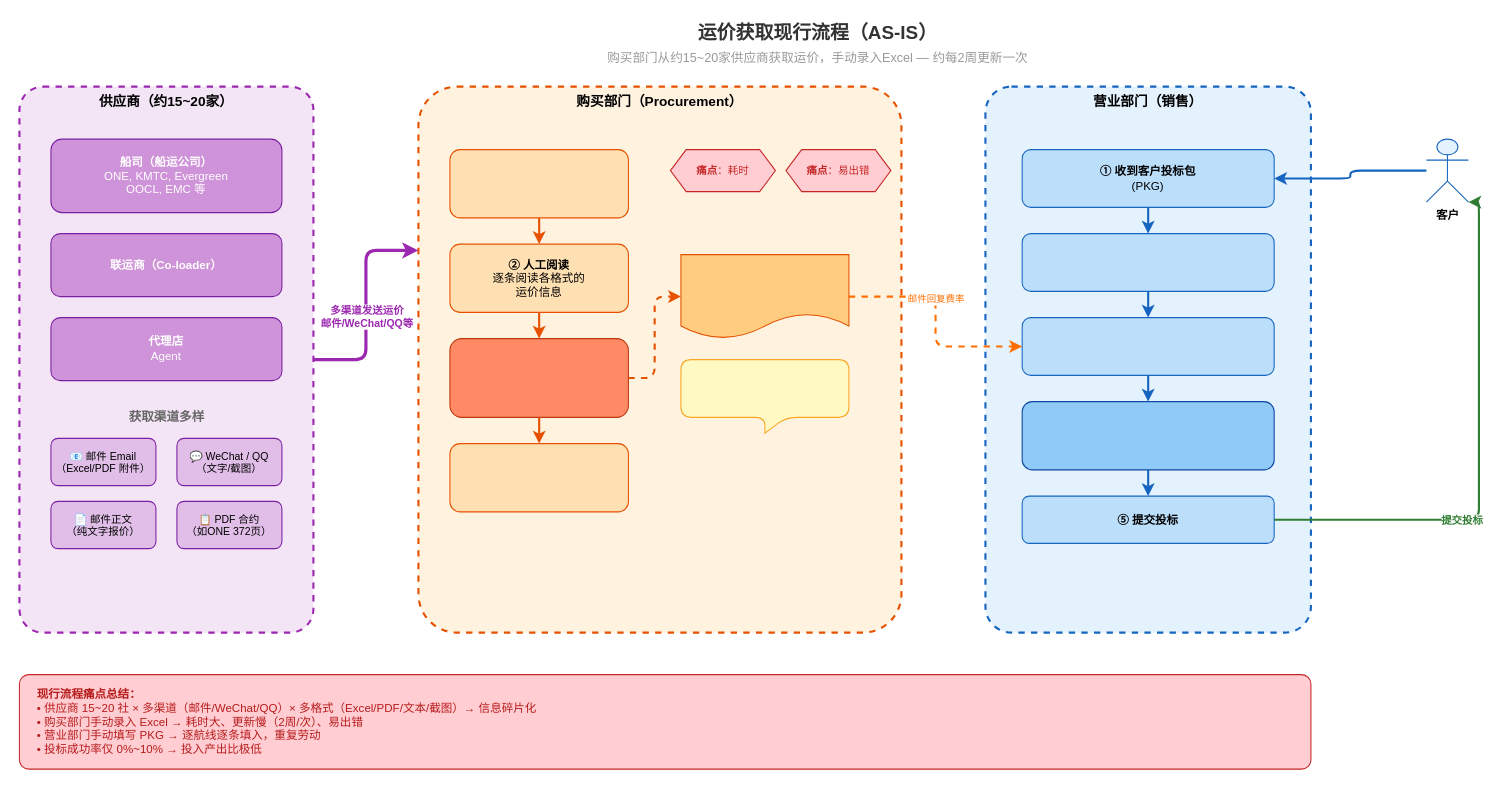
Image size: 1506x787. Some labels were removed from this diagram. Here are the shapes that lost their labels. From the top down, the centre of each, then its label:
the point at 538,183: ① 接收运价 从邮件/WeChat/QQ 收集各供应商报价
the point at 1147,262: ② 向购买部门请求报价 向各地购买担当发邮件请求报价
the point at 764,296: 运价管理表 （Excel）
the point at 1147,346: ③ 收到购买部门回复 购买部门通过邮件回复运价
the point at 538,377: ③ 手动录入 Excel ⚠️ 逐条手打输入到 运价管理表 （最大痛点）
the point at 764,396: 约2周更新一次 每次需重新录入
the point at 1147,435: ④ 手动填写投标包 ⚠️ 按客户指定格式填入 逐航线填入费率
the point at 538,477: ④ 核对检查 确认录入数据 的准确性
